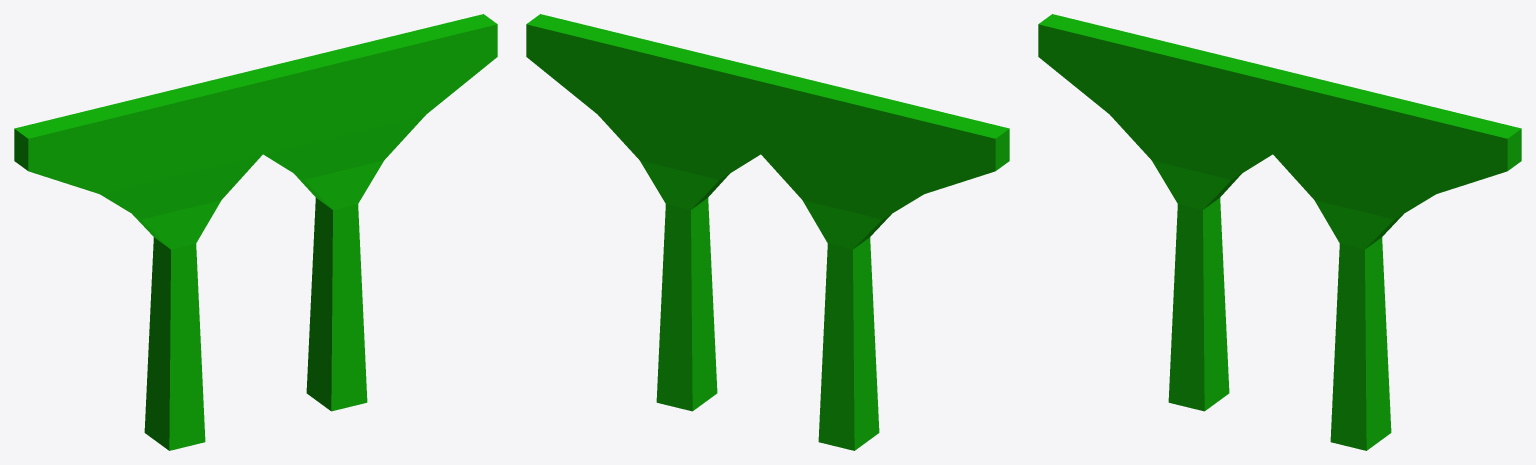
Rendered from DG_Arch_6m_col.FBX.
The picture shows the model from 3 angles, left to right: view 1: azimuth 30°, elevation 25°; view 2: azimuth 150°, elevation 25°; view 3: azimuth 330°, elevation 25°; orthographic projection.
Parts seen in each view (by area): view 1: DG_Arch_6m_col; view 2: DG_Arch_6m_col; view 3: DG_Arch_6m_col.
Boxes of the visible parts, <box> form: DG_Arch_6m_col: <box>14,14,497,450</box>; DG_Arch_6m_col: <box>526,14,1009,450</box>; DG_Arch_6m_col: <box>1038,14,1521,450</box>.
Bounding box in the file's own units: 875 × 608 × 80.
